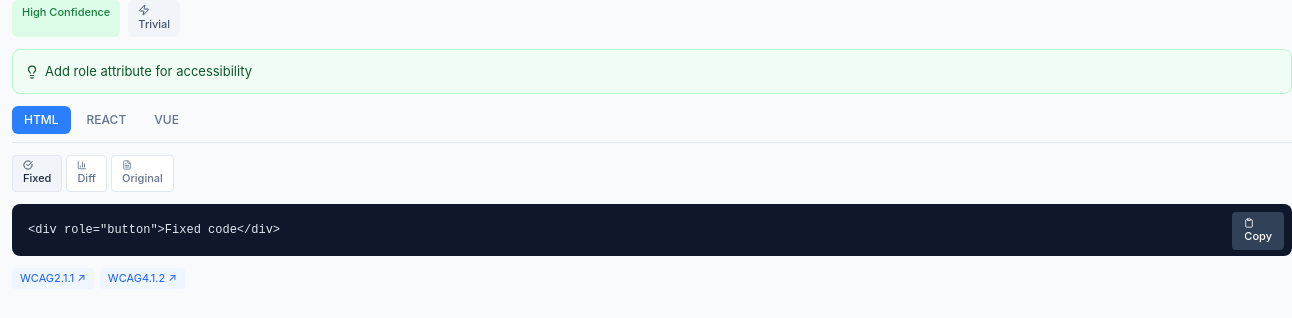
findings/FixCodePreview › switches to diff view when diff button is clicked
This screenshot has width=1292, height=318.
Click the button "Diff". click: (87, 173)
box: top-left (66, 155), bottom-right (107, 192)
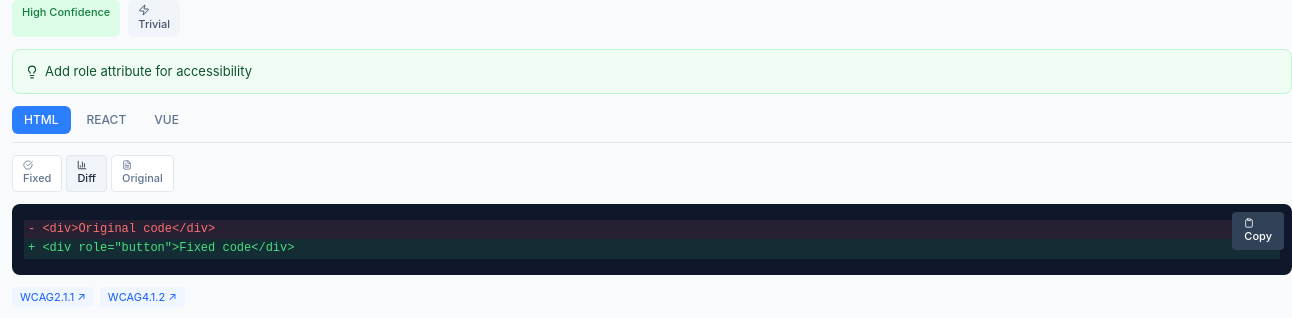
Now the text "- <div>Original code</div>" is shown, box top-left (24, 220), bottom-right (1280, 239)
